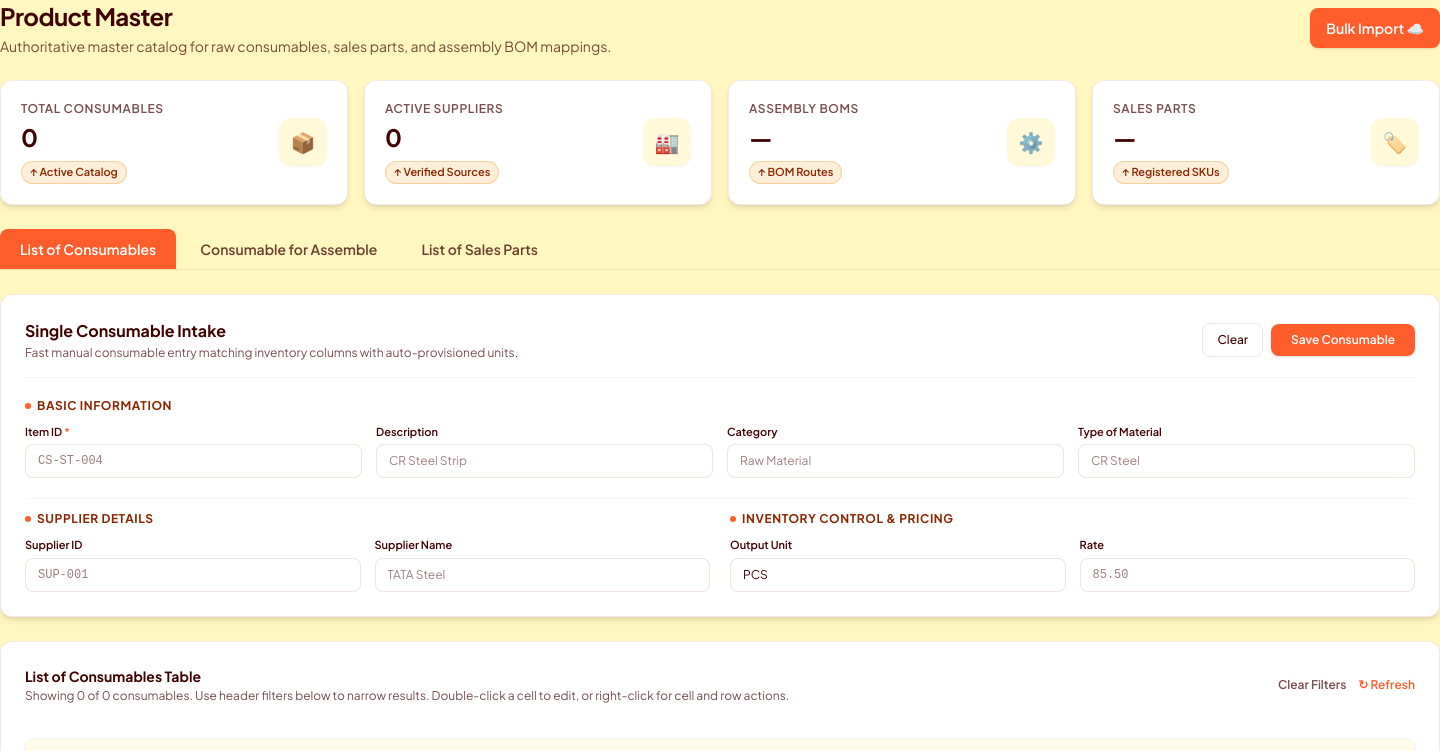
Test case: switching tabs navigates to assemble BOM and sales parts views
// Switch to Consumable for Assemble tab
Click the button "Consumable for Assemble". click: (289, 248)
box: [180,228,397,268]
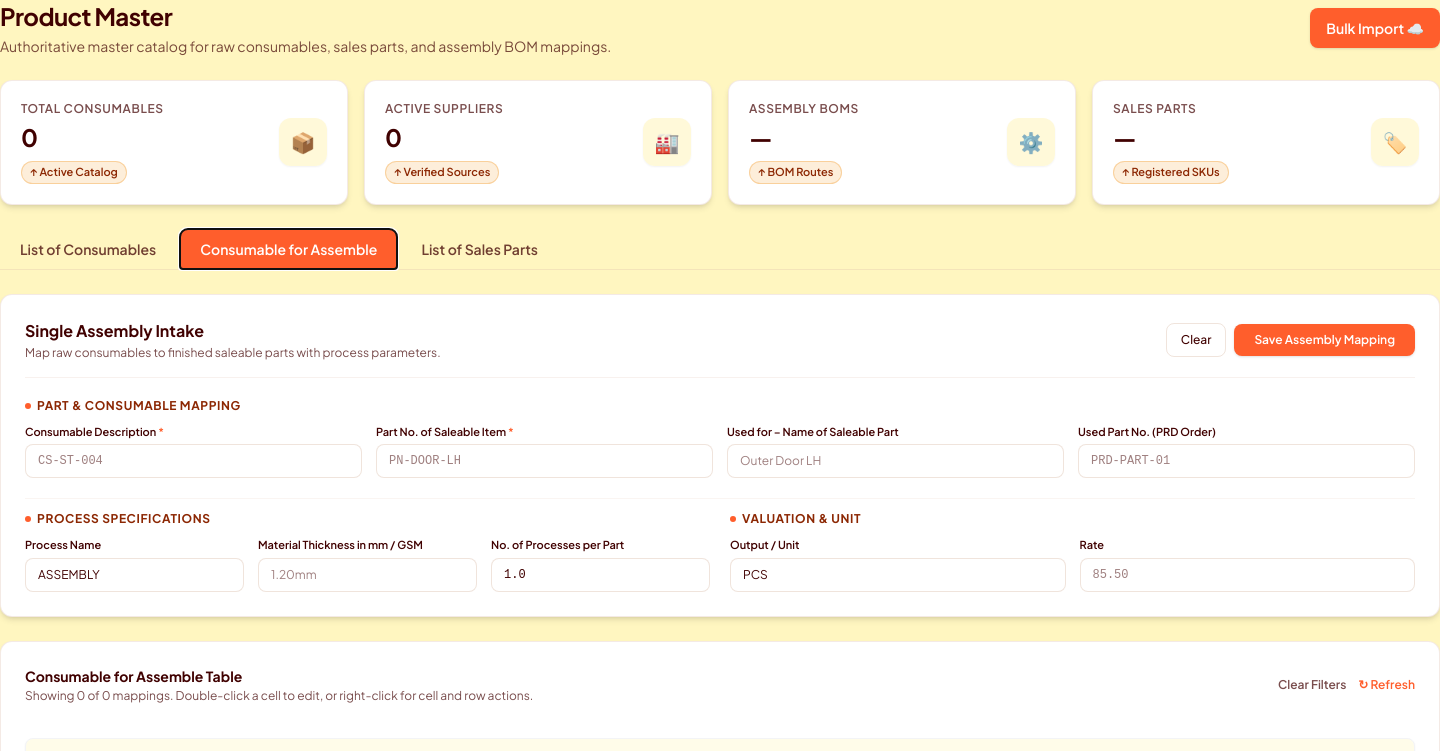
Result: the heading "Single Assembly Intake" is shown at [25,320,204,340]
// Switch to List of Sales Parts tab
Click the button "List of Sales Parts". click: (480, 248)
box: [401,228,558,268]
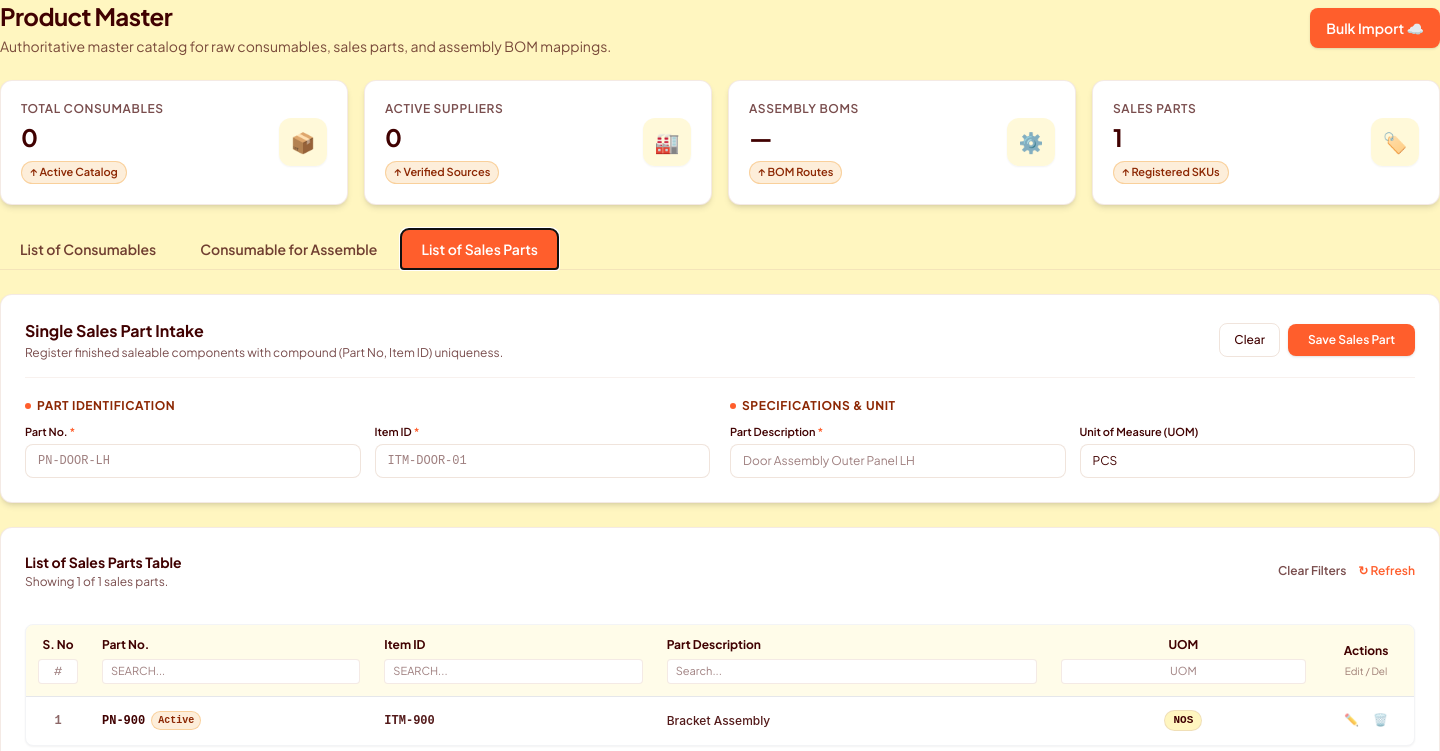
Result: the heading "Single Sales Part Intake" is shown at [25,320,204,340]
Result: the text "PN-900" is shown at [102,713,145,729]
